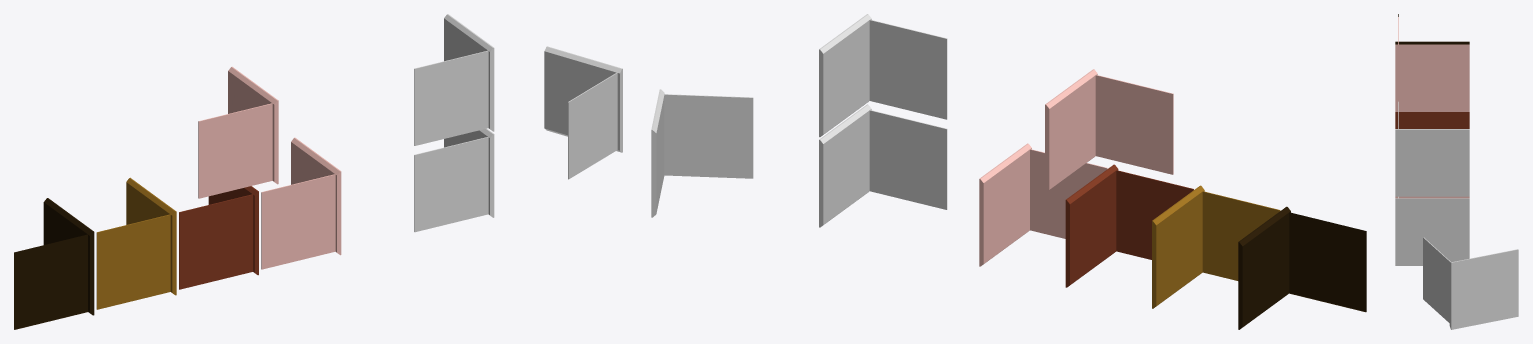
The model's file is IKEA_EKET_Cube.glb.
The picture shows the model from 3 angles, left to right: view 1: azimuth 30°, elevation 25°; view 2: azimuth 150°, elevation 25°; view 3: azimuth 270°, elevation 25°; orthographic projection. The views are drawn at different scales.
Visible parts, largest first — view 1: Plane.007, Plane.004, Plane.001, Plane.003, Plane.005, Plane.006, Plane.002, Plane, Cube, Cube.006, Cube.004, Cube.007 (+4 smaller); view 2: Plane, Plane.002, Plane.007, Plane.001, Plane.006, Cube.005, Cube.003, Cube.006, Cube.001, Cube.004, Cube.007, Cube.002 (+4 smaller); view 3: Cube.002, Cube.007, Cube, Cube.001, Plane, Cube.005, Cube.006, Cube.003.
Boxes of the visible parts, x1=… form: Plane.007: x1=198, y1=103, x2=272, y2=198; Plane.004: x1=96, y1=214, x2=170, y2=309; Plane.001: x1=414, y1=137, x2=488, y2=232; Plane.003: x1=261, y1=174, x2=335, y2=269; Plane.005: x1=179, y1=194, x2=253, y2=289; Plane.006: x1=14, y1=234, x2=88, y2=329; Plane.002: x1=414, y1=50, x2=488, y2=145; Plane: x1=568, y1=72, x2=617, y2=179; Cube: x1=544, y1=46, x2=622, y2=152; Cube.006: x1=43, y1=198, x2=94, y2=315; Cube.004: x1=126, y1=177, x2=176, y2=295; Cube.007: x1=228, y1=66, x2=278, y2=184; Plane: x1=664, y1=94, x2=753, y2=178; Plane.002: x1=869, y1=19, x2=947, y2=119; Plane.007: x1=1095, y1=75, x2=1173, y2=174; Plane.001: x1=869, y1=110, x2=947, y2=209; Plane.006: x1=1289, y1=212, x2=1366, y2=312; Cube.005: x1=1065, y1=164, x2=1118, y2=287; Cube.003: x1=979, y1=143, x2=1031, y2=266; Cube.006: x1=1238, y1=206, x2=1290, y2=329; Cube.001: x1=819, y1=104, x2=871, y2=227; Cube.004: x1=1152, y1=185, x2=1204, y2=308; Cube.007: x1=1045, y1=69, x2=1097, y2=192; Cube.002: x1=819, y1=14, x2=871, y2=137; Cube.002: x1=1395, y1=129, x2=1469, y2=196; Cube.007: x1=1395, y1=44, x2=1469, y2=111; Cube: x1=1449, y1=249, x2=1518, y2=329; Cube.001: x1=1395, y1=198, x2=1469, y2=265; Plane: x1=1423, y1=237, x2=1450, y2=322; Cube.005: x1=1395, y1=112, x2=1469, y2=128; Cube.006: x1=1395, y1=41, x2=1469, y2=44; Cube.003: x1=1395, y1=196, x2=1469, y2=198.
Bounding box in the file's own units: 2.73 × 0.6906 × 0.5646.
